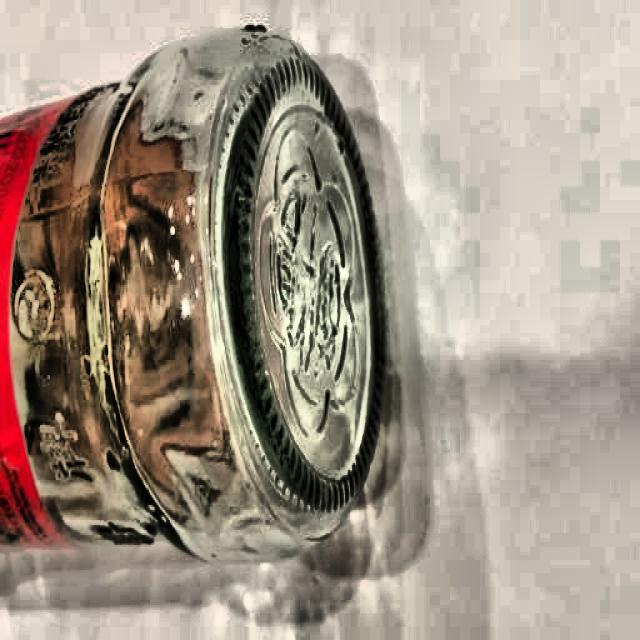glass: (0, 24, 378, 563)
